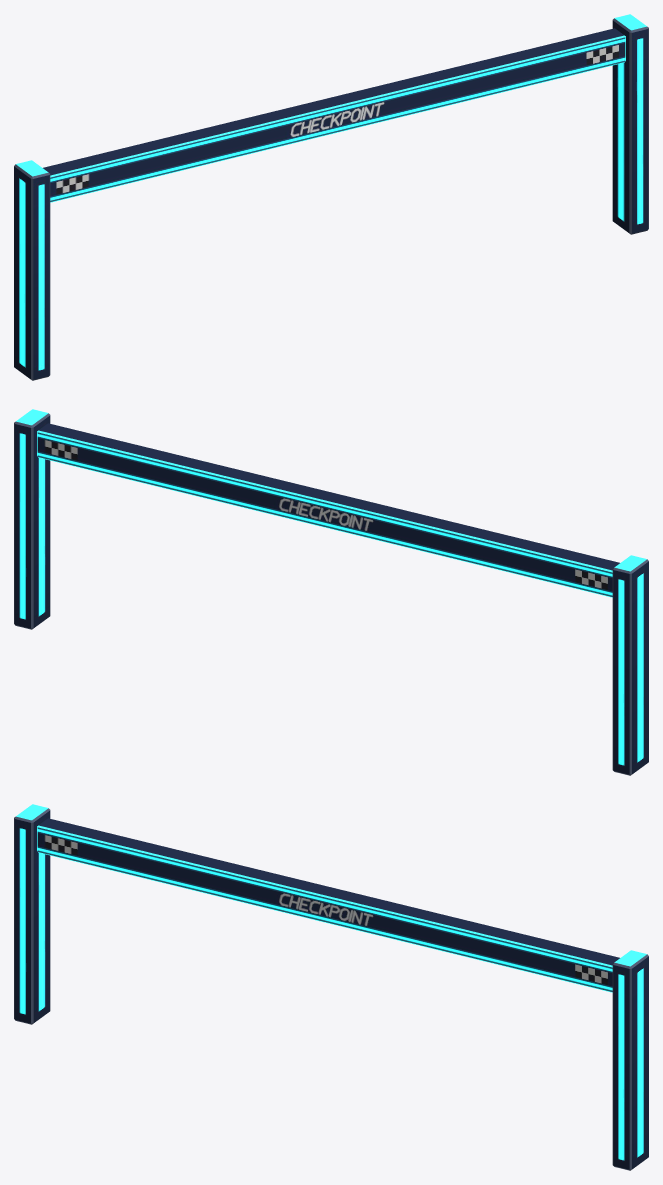
The model's file is gate-checkpoint.glb.
3 views of the same model, one above another, from view 1: azimuth 30°, elevation 25°; view 2: azimuth 150°, elevation 25°; view 3: azimuth 330°, elevation 25° (orthographic).
Visible parts, largest first — view 1: gate-checkpoint; view 2: gate-checkpoint; view 3: gate-checkpoint.
Boxes of the visible parts, x1=… form: gate-checkpoint: x1=14, y1=14, x2=648, y2=380; gate-checkpoint: x1=14, y1=409, x2=648, y2=775; gate-checkpoint: x1=14, y1=804, x2=648, y2=1170.
Size of the model in its own units: 19 by 6 by 1.
Materials: 1 (1 with a texture image).
